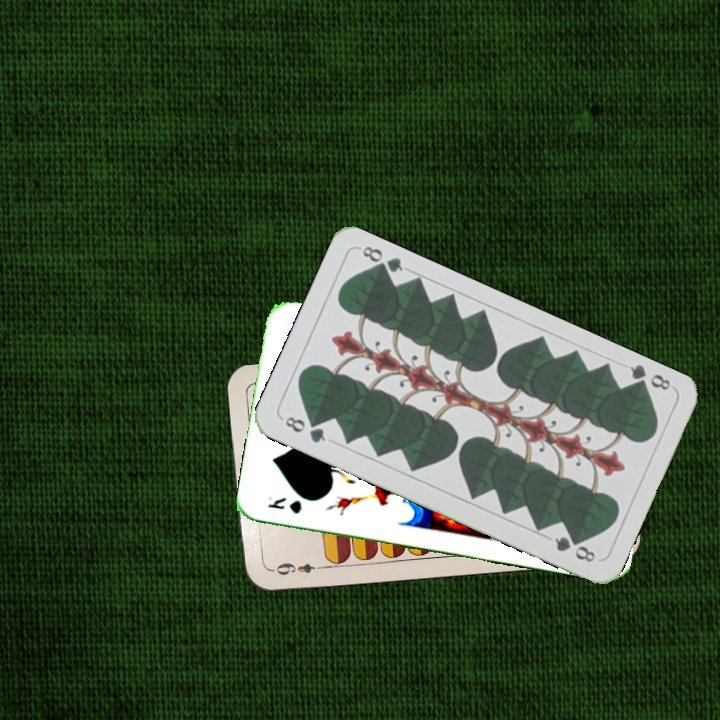E9: (266, 559, 326, 578)
G8: (625, 361, 674, 395), (281, 412, 328, 446)
GK: (264, 492, 305, 516)
